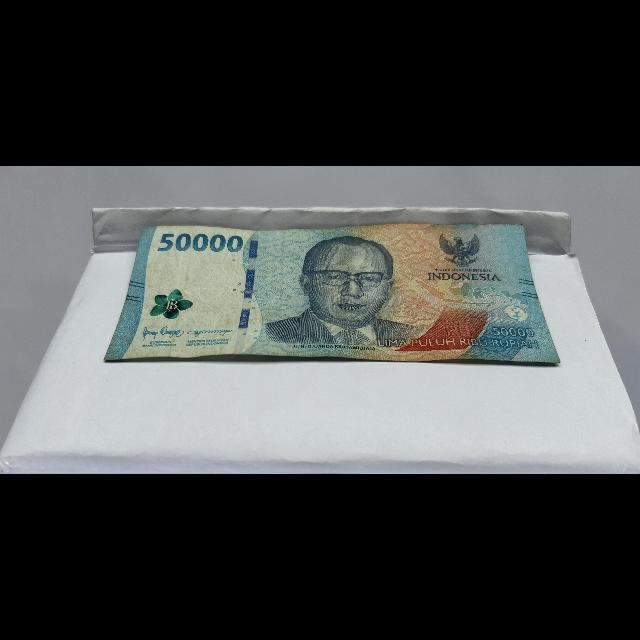Asli-50k: (100, 221, 564, 366)
Tinta-Asli-50k: (147, 287, 197, 322)
